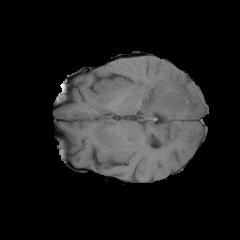glioma: (94, 57, 201, 143)
